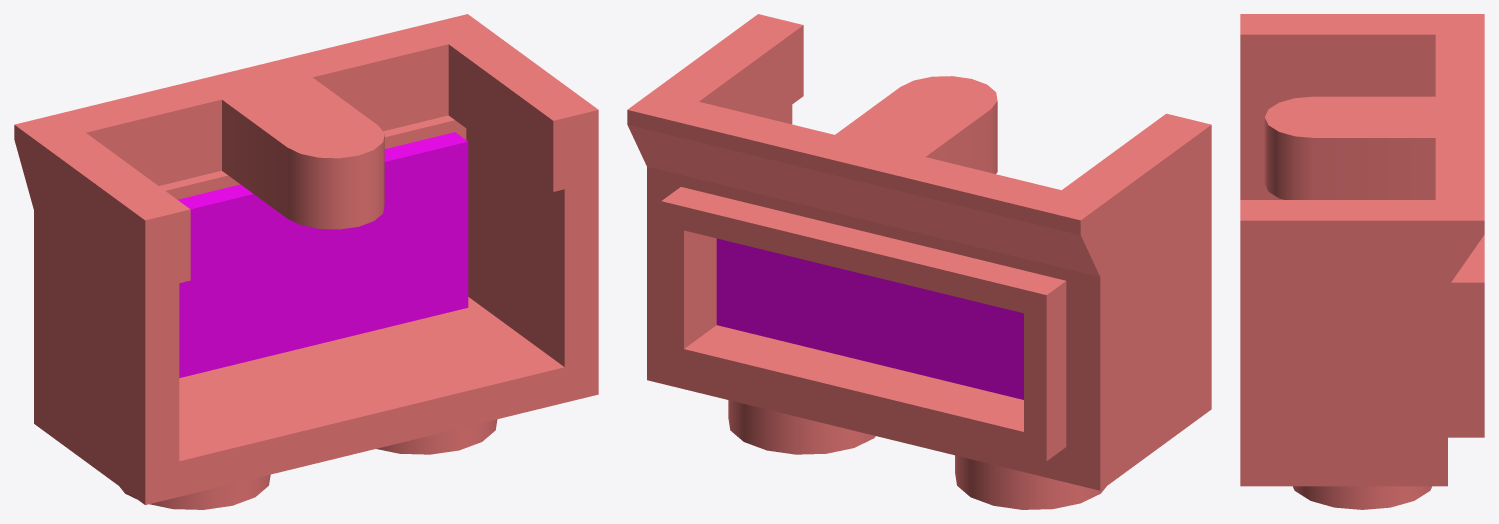
3 views of the same model, side by side, from view 1: azimuth 30°, elevation 25°; view 2: azimuth 150°, elevation 25°; view 3: azimuth 270°, elevation 25° (orthographic). The views are drawn at different scales.
Parts seen in each view (by area): view 1: 27c.dat, 846.dat; view 2: 27c.dat, 846.dat; view 3: 27c.dat.
Boxes of the visible parts, x1,y1,x2,y2 form: 27c.dat: [14, 14, 598, 509]; 846.dat: [177, 132, 468, 377]; 27c.dat: [627, 14, 1211, 509]; 846.dat: [716, 238, 1023, 399]; 27c.dat: [1240, 14, 1484, 509].
Bounding box in the file's own units: 0.28 × 0.196 × 0.14.
